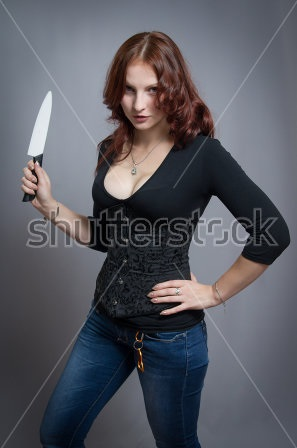knife: (12, 85, 61, 193)
